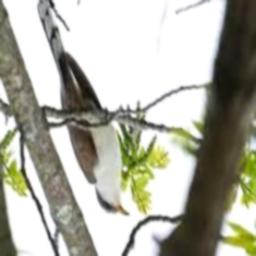Cuckoo: (38, 0, 132, 217)
